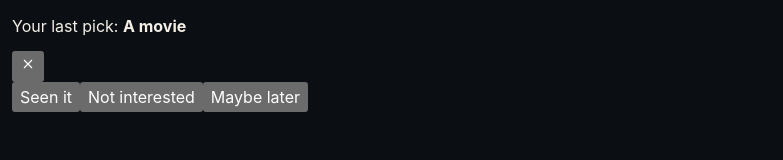
Test: not interested saves the title to Not for me without interpreting its genre
The width and height of the screenshot is (783, 160).
Click the button "Not interested" at (141, 97), box [80,82,203,112]
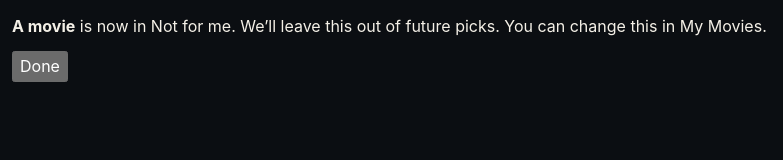
Result: the message shows "is now in Not for me" at [75,16,767,36]
